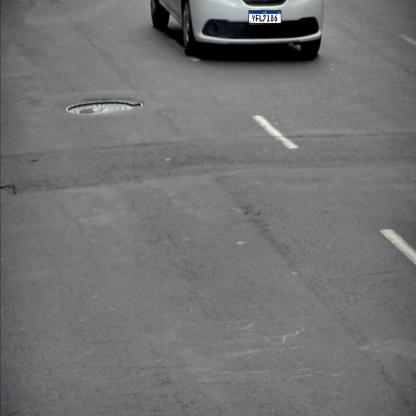PlacaM: (248, 10, 282, 24)
